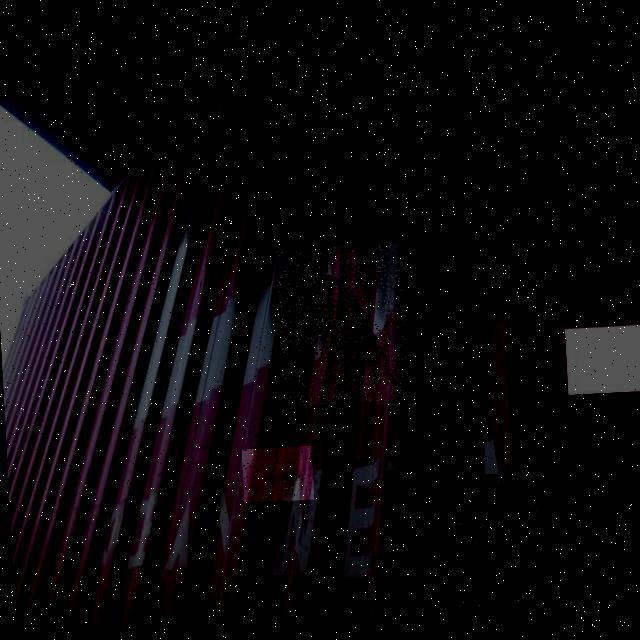Dent: (277, 244, 409, 406)
Minor-Dent: (455, 471, 563, 622), (242, 446, 315, 506)
